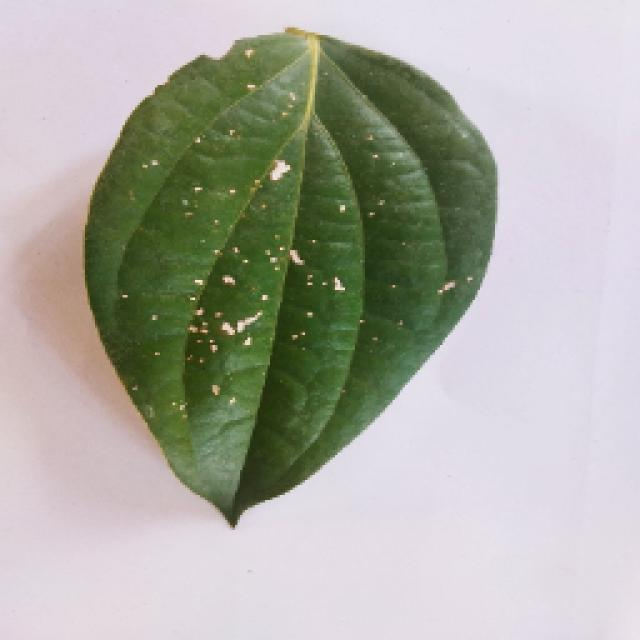pollu-disease: (52, 27, 510, 525)
